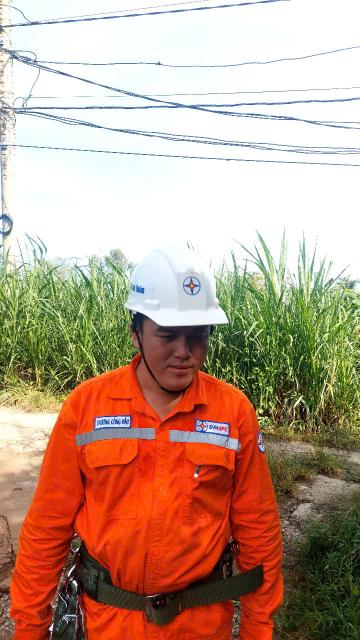harness: (43, 526, 252, 627)
helmet: (109, 236, 244, 343)
